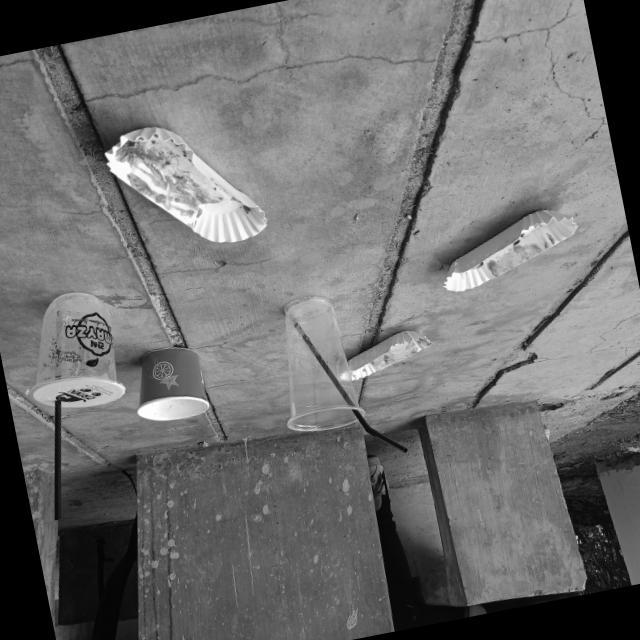recyclable waste: (92, 98, 280, 276), (3, 276, 142, 431), (419, 192, 596, 310), (255, 281, 378, 449), (118, 333, 223, 439), (324, 318, 446, 392)
